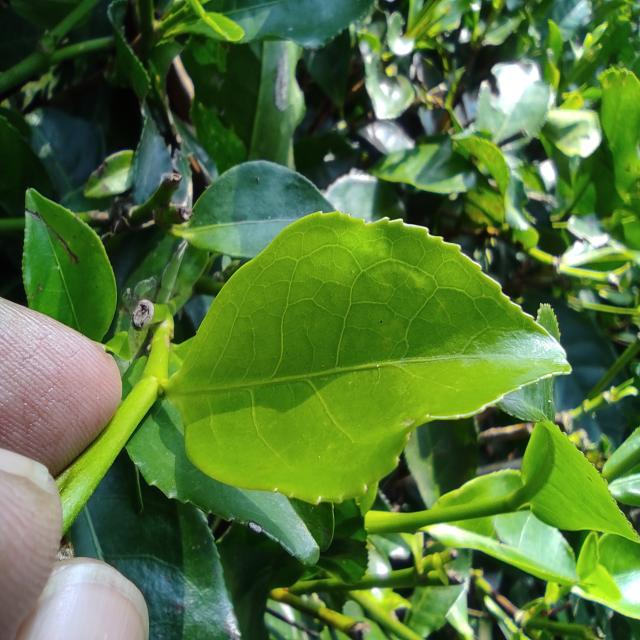Category C(4-7 days): (125, 182, 576, 518)
